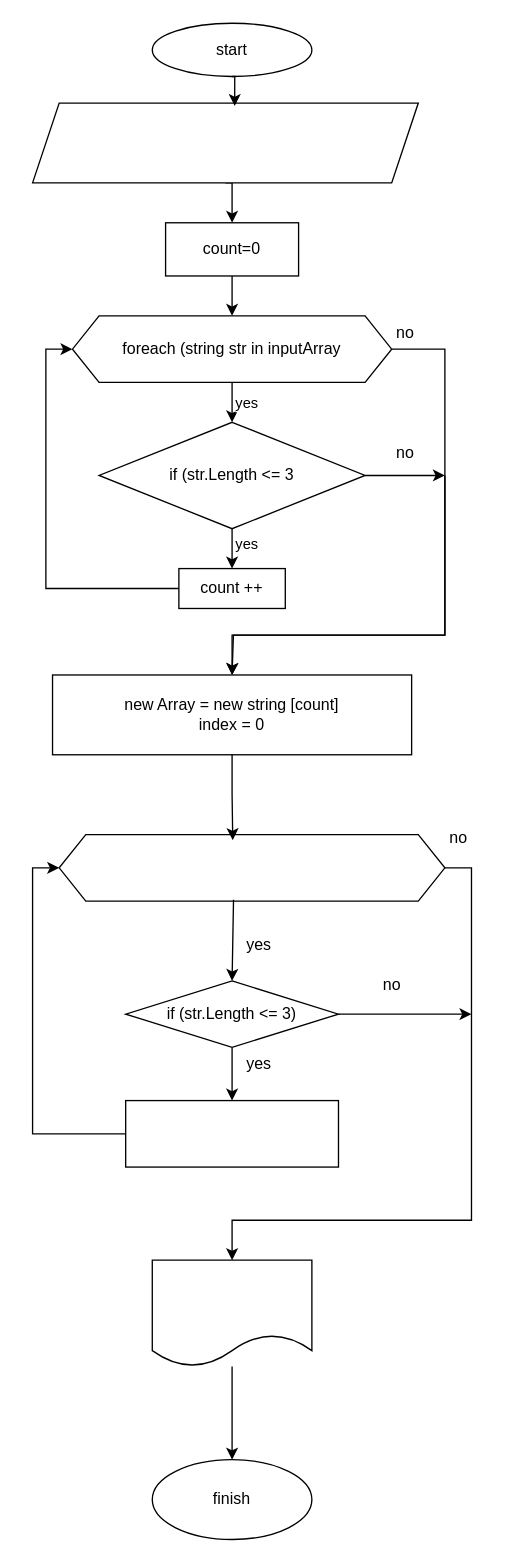
The diagram is 508 pixels wide and 1563 high, and some of its shapes have lost their labels. The shapes that lost their labels are listed below. From the top down, each one's box as (x1, y1, x2, y2) in pixels, then its label:
(31, 102, 418, 183): inputArray=["Hello","(!*","Россия","-5","789"]
(58, 833, 445, 901): foreach (string str in inputArray)
(124, 1099, 338, 1167): newArray [index] = str index ++
(151, 1259, 312, 1367): newArray
